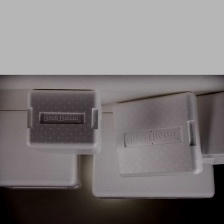foam_box: (88, 106, 218, 204), (108, 88, 211, 179), (0, 106, 86, 195), (19, 87, 106, 157), (193, 87, 224, 168)
